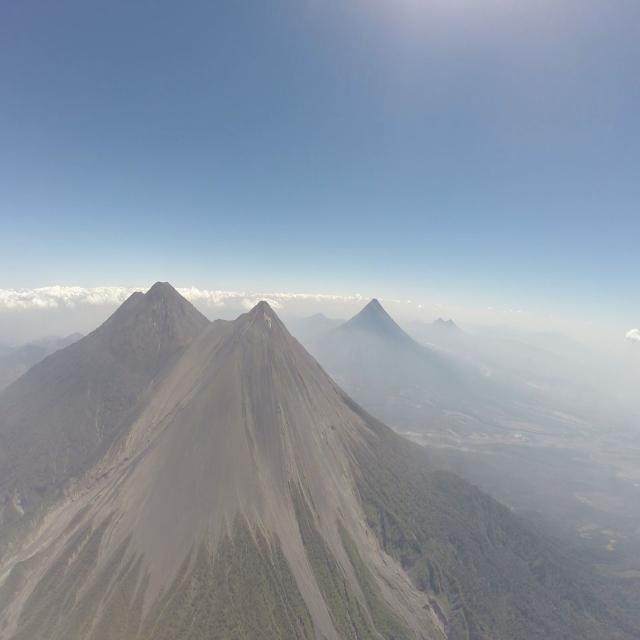Summit: (234, 298, 288, 330)
